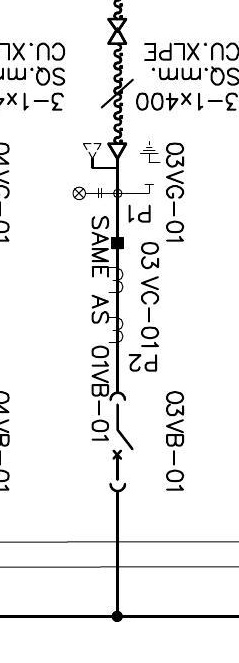22_breaker: (108, 391, 135, 493)
22_gs: (139, 141, 162, 187)
22_ll: (72, 186, 103, 201)
terminator_splicing_kits: (107, 18, 128, 46)
terminator_w_future: (81, 141, 128, 171)
